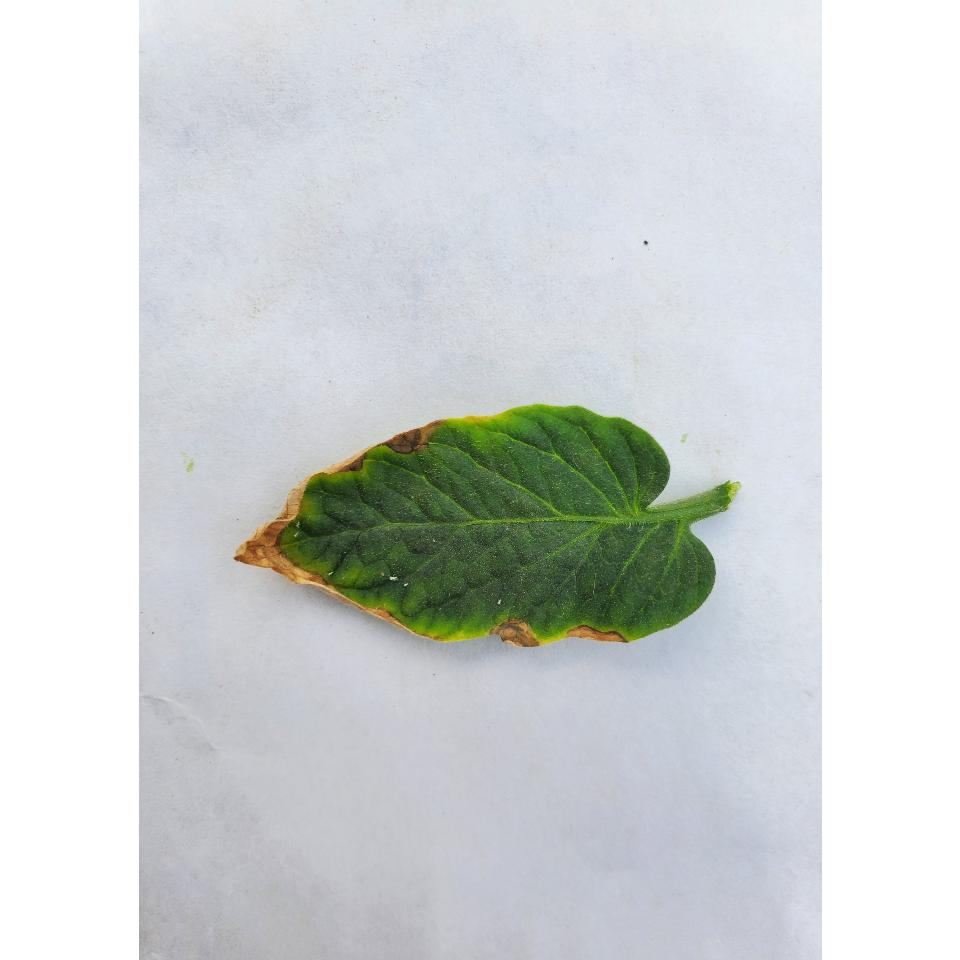tomato_bacterial_blight: (227, 423, 736, 653)
